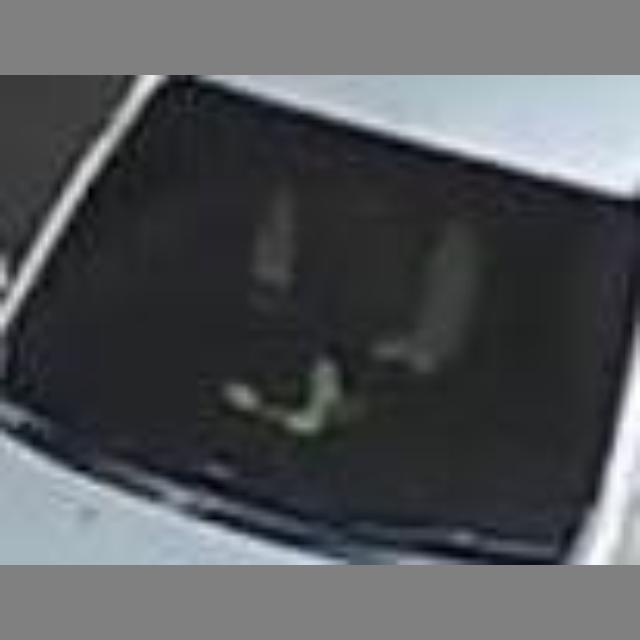tidak-pakai: (230, 125, 460, 386)
